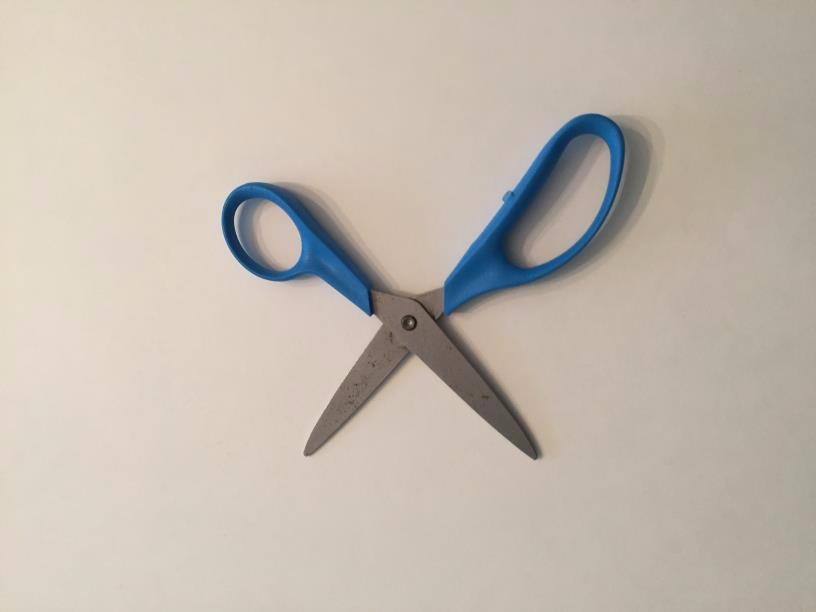scissor: (205, 84, 655, 496)
